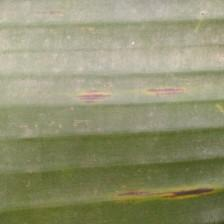sigatoka: (0, 0, 224, 223)
